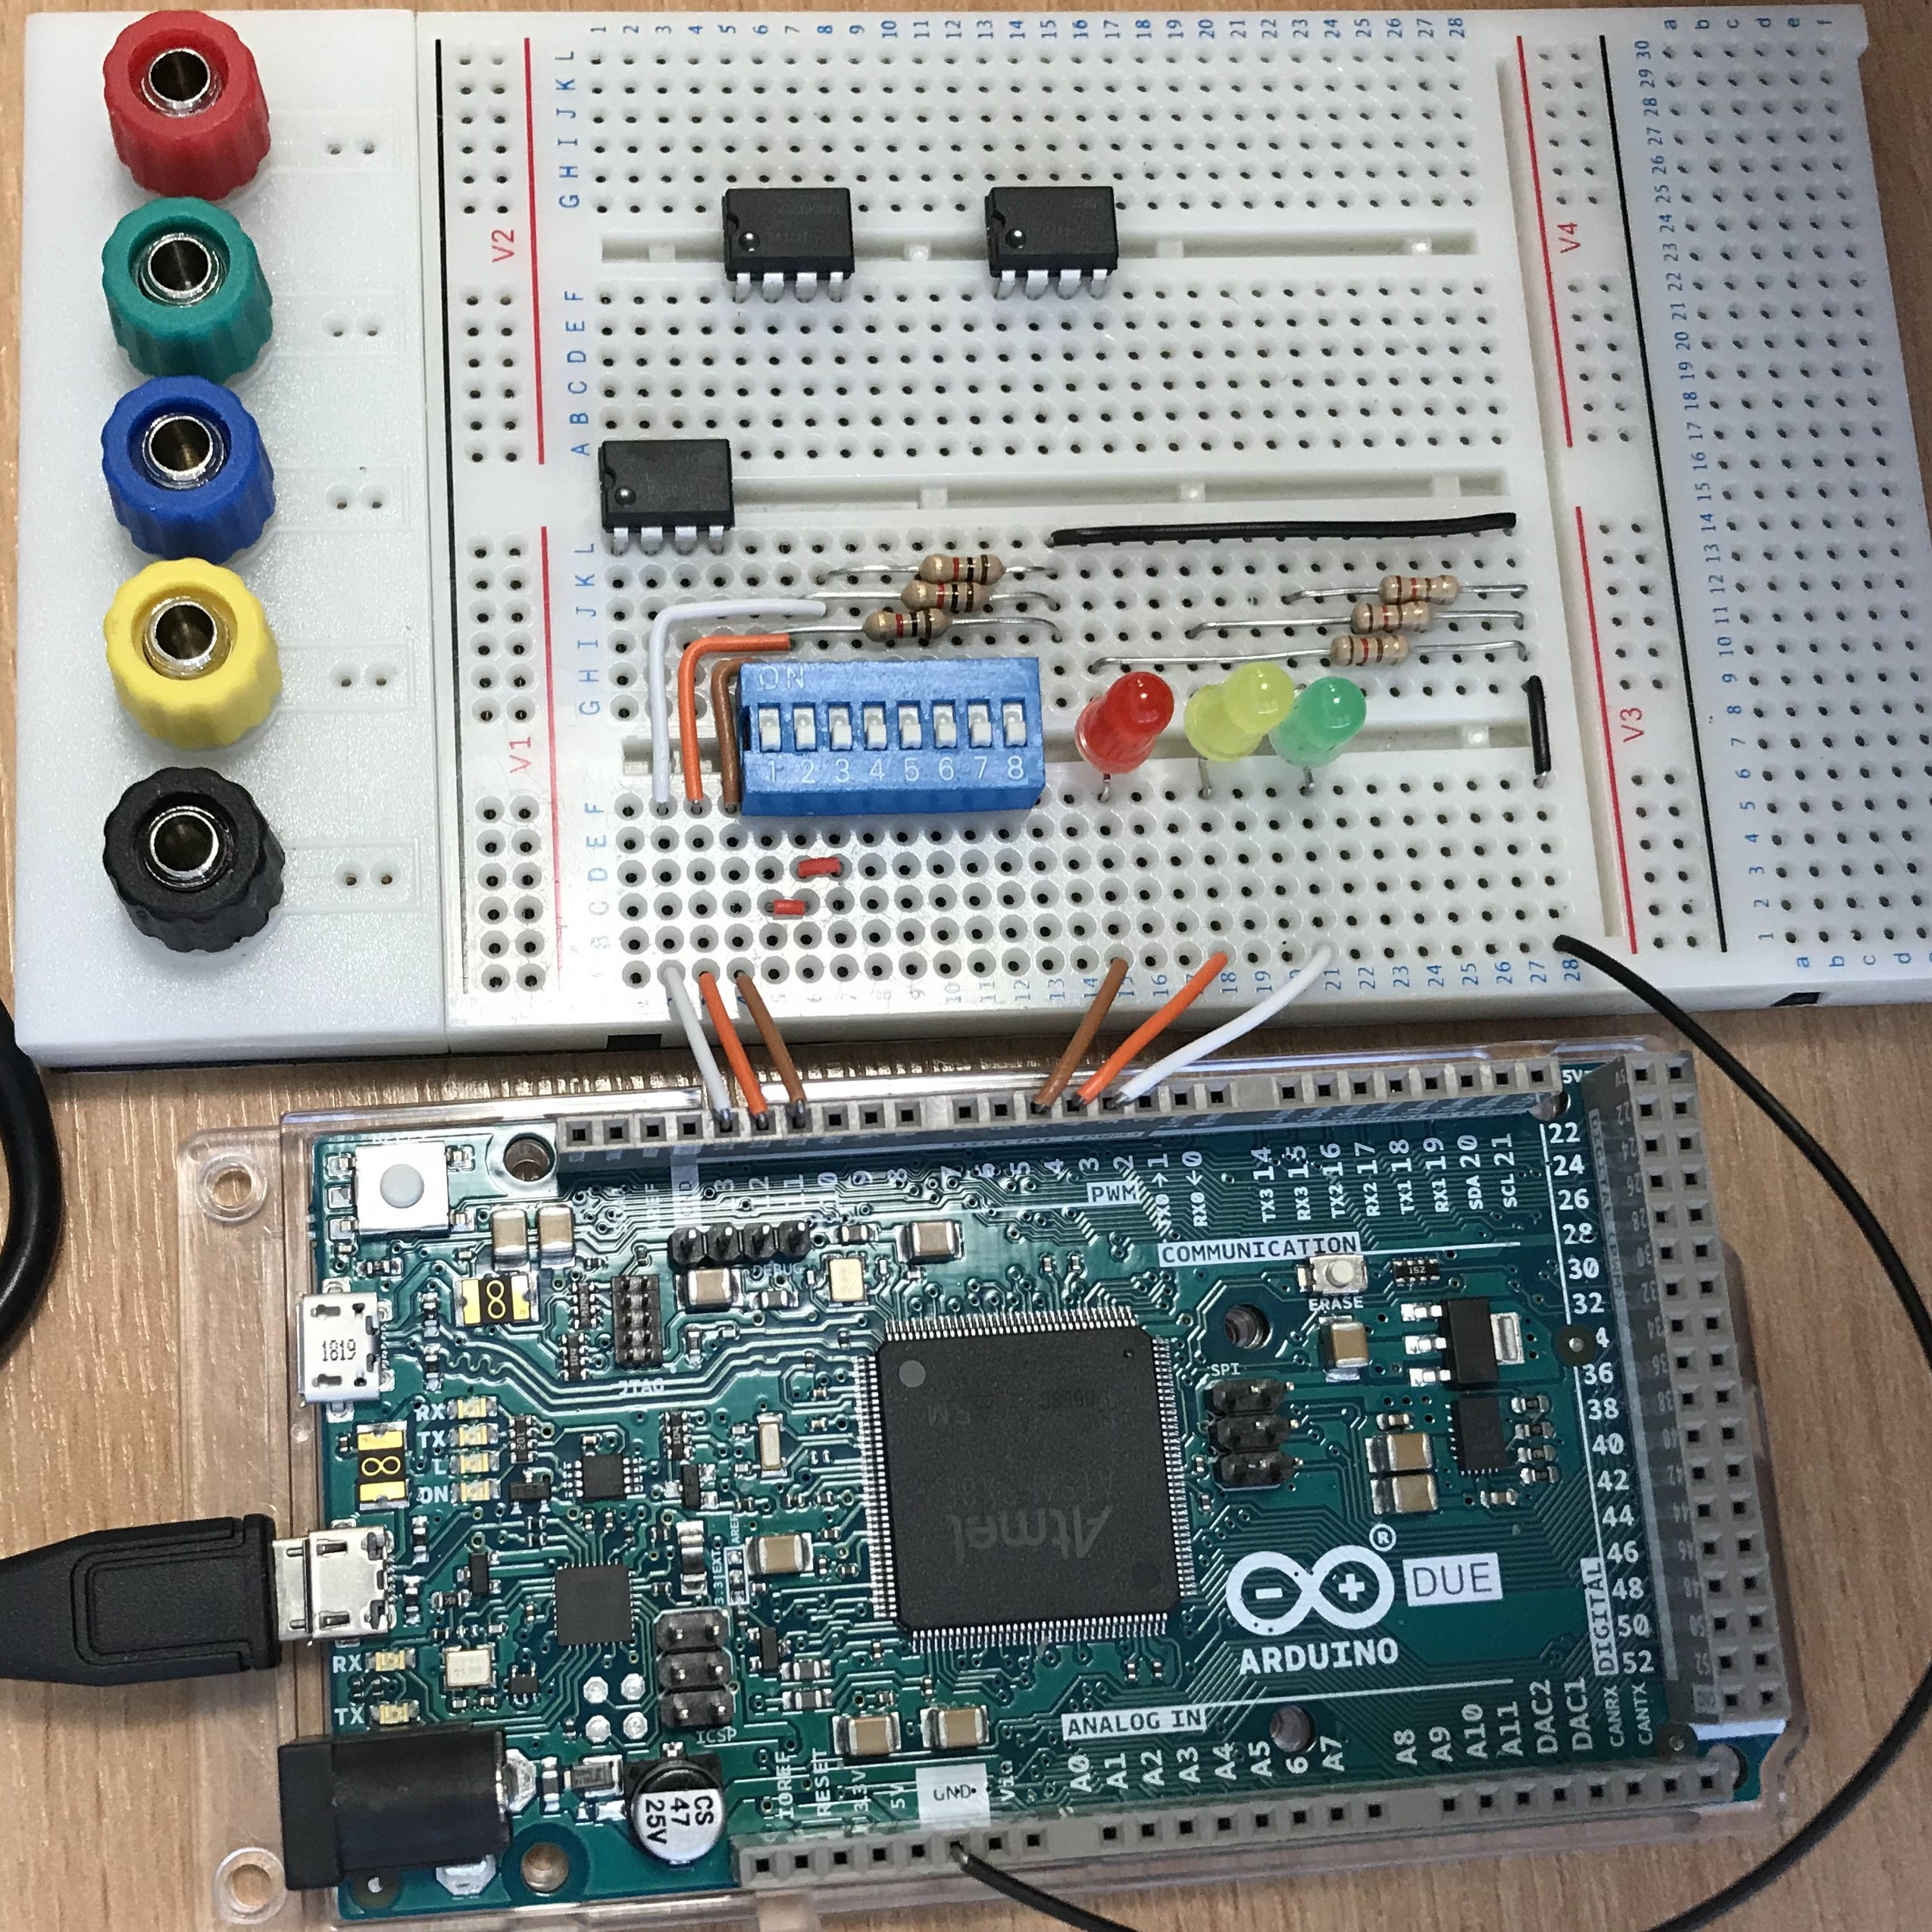LED: (1178, 651, 1300, 770), (1070, 667, 1175, 782), (1267, 671, 1373, 782)
Resistor: (856, 603, 959, 649), (886, 579, 1008, 614), (1334, 602, 1456, 633), (906, 550, 1019, 584), (1362, 575, 1483, 605), (1315, 633, 1417, 667)
